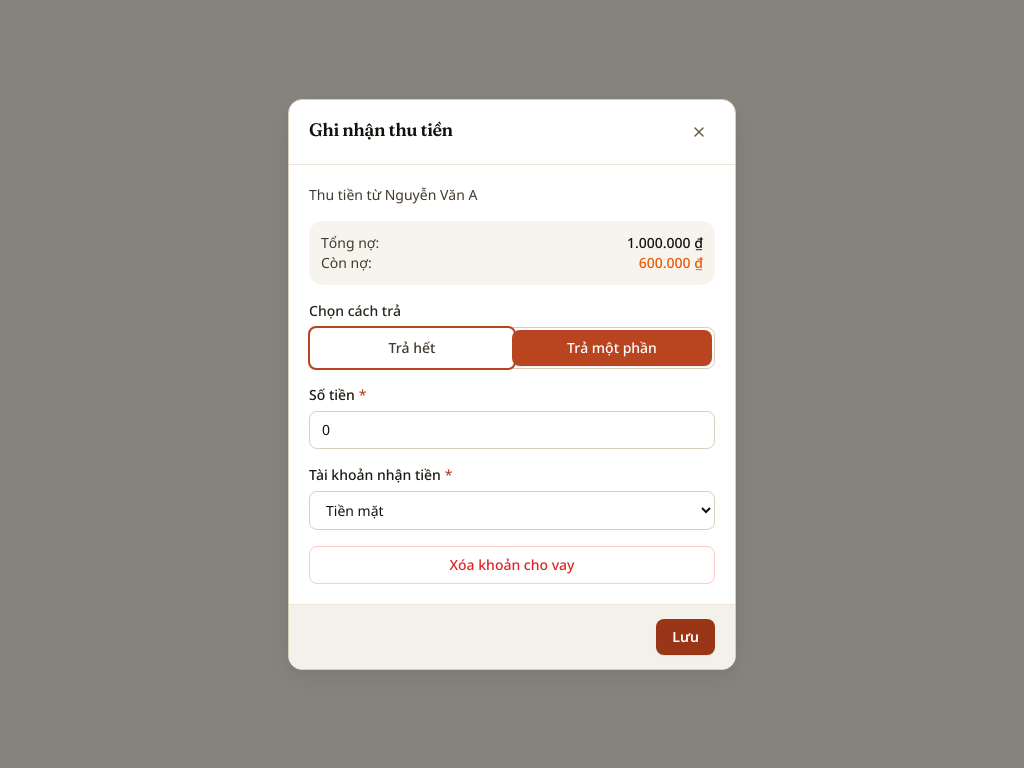
Scenario: PaymentModal › API lỗi → toast error hiển thị, modal không đóng
Expected: the dropdown shows "Tiền mặt", [309,490,715,530]
Replace the text in the field with "50000" at (512, 430), box [309,410,715,448]
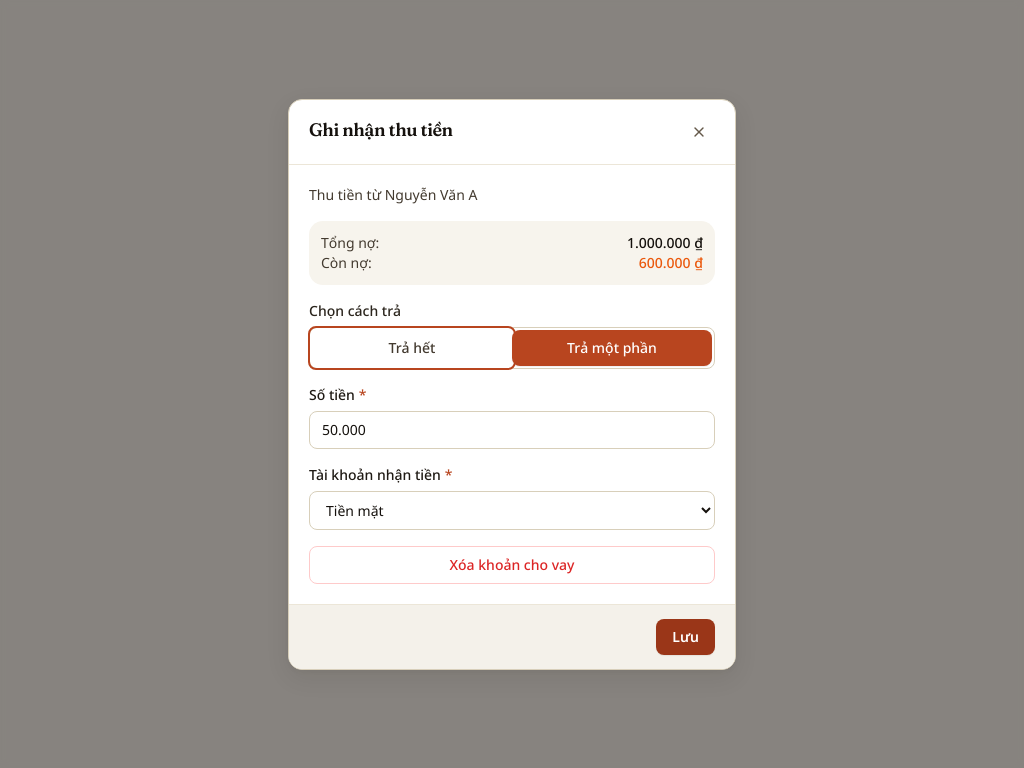
Click the button "Lưu" at (686, 636), box [656,618,715,654]
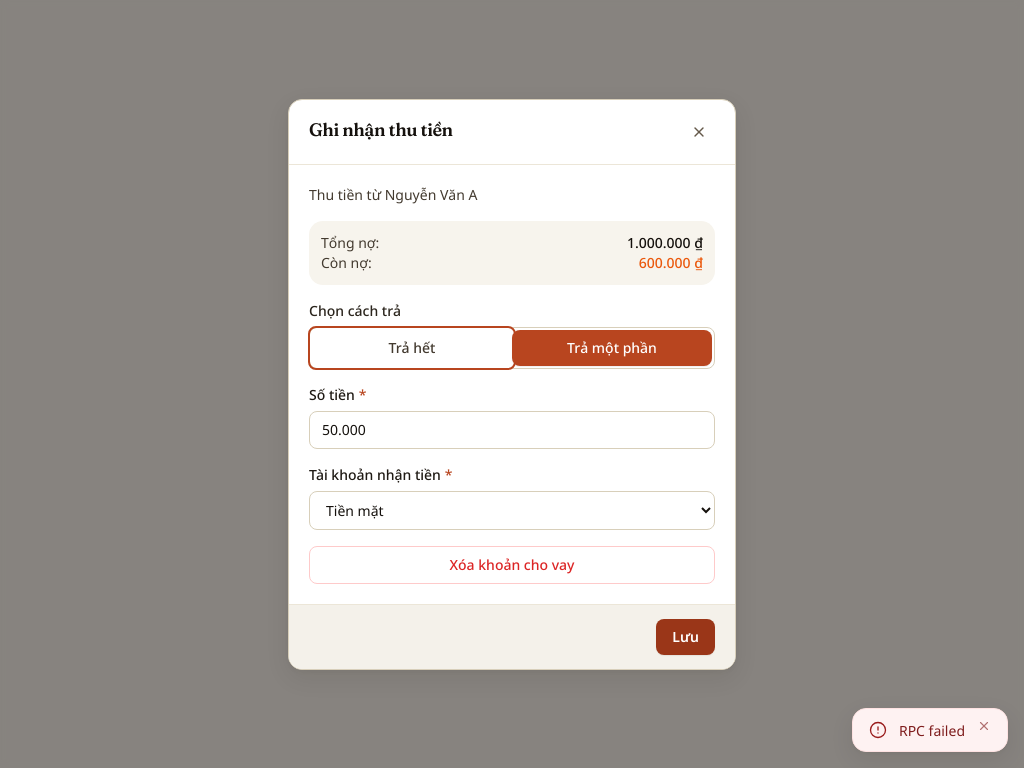
Expected: the text "RPC failed" is shown, [899,719,965,741]
